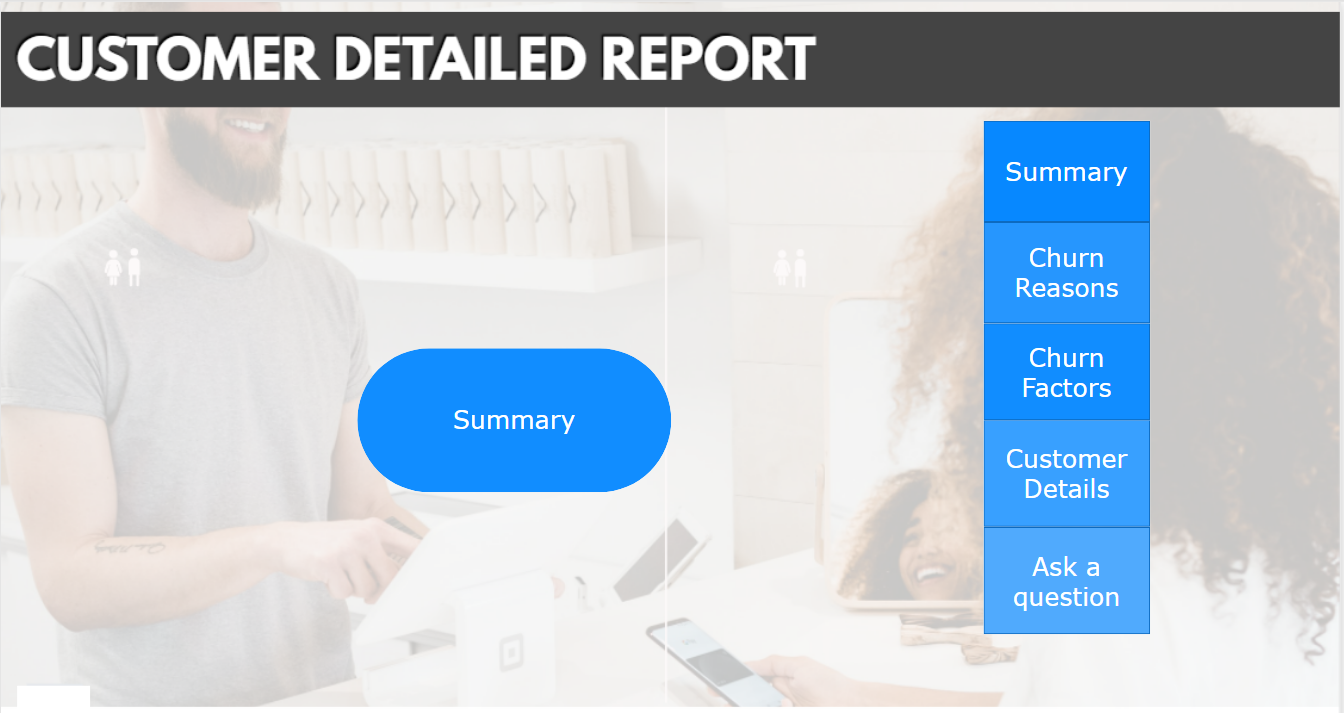

The dashboard page shown, as its layout file describes it:
{"tool":"powerbi","page":{"name":"Home","canvas":[1280,720],"ordinal":0},"visuals":[{"type":"shape","box":[938.5,113.4,158.8,96.7],"z":0},{"type":"shape","box":[938.5,398.8,158.8,102.7],"z":1000},{"type":"shape","box":[938.5,210.1,158.8,96.7],"z":2000},{"type":"shape","box":[938.5,501.5,158.8,102.7],"z":3000},{"type":"shape","box":[340.3,330.7,299.7,137.3],"z":4000},{"type":"shape","box":[15.5,653.1,69.3,53.7],"z":4001},{"type":"shape","box":[938.5,306.9,158.8,93.1],"z":4002}]}

Visuals, with their boxes on the page's 1280x720 design canvas (x1, y1, x2, y2). These are canvas units, not pixel positions in the 1344x713 screenshot, which may show the page scaled, cropped or inside an application window:
shape: {"left": 938, "top": 113, "right": 1097, "bottom": 210}
shape: {"left": 938, "top": 399, "right": 1097, "bottom": 502}
shape: {"left": 938, "top": 210, "right": 1097, "bottom": 307}
shape: {"left": 938, "top": 502, "right": 1097, "bottom": 604}
shape: {"left": 340, "top": 331, "right": 640, "bottom": 468}
shape: {"left": 16, "top": 653, "right": 85, "bottom": 707}
shape: {"left": 938, "top": 307, "right": 1097, "bottom": 400}
